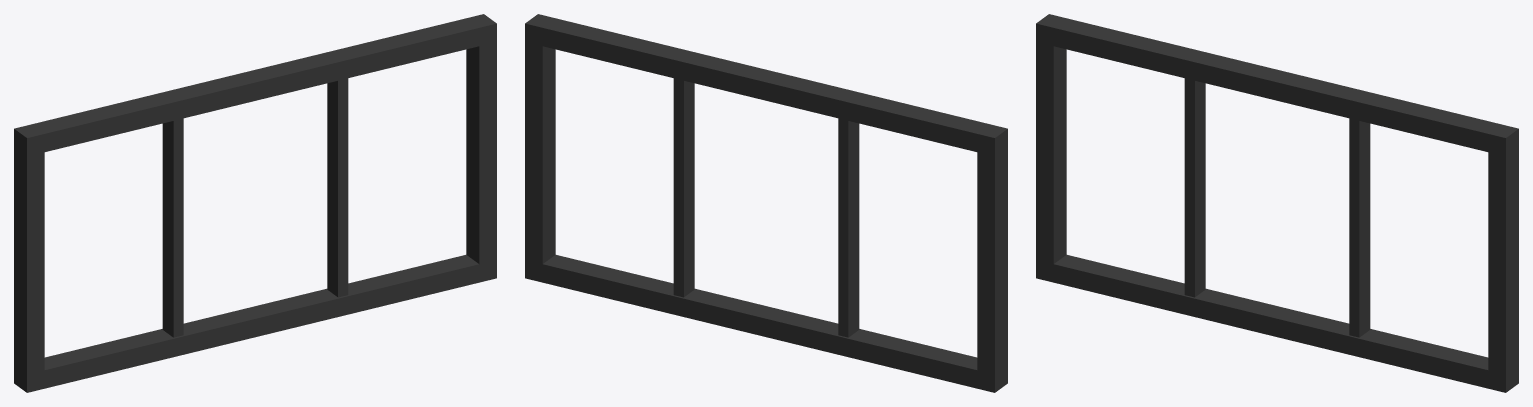
File: Window4_02_2.fbx
The picture shows the model from 3 angles, left to right: view 1: azimuth 30°, elevation 25°; view 2: azimuth 150°, elevation 25°; view 3: azimuth 330°, elevation 25°; orthographic projection.
Visible parts, largest first — view 1: Window4_02_2; view 2: Window4_02_2; view 3: Window4_02_2.
Part boxes in pixels (box(x1,y1,x2,y2)): Window4_02_2: box(14, 14, 496, 392); Window4_02_2: box(525, 14, 1007, 392); Window4_02_2: box(1036, 14, 1518, 392).
Bounding box in the file's own units: 120 × 62.21 × 5.76.
